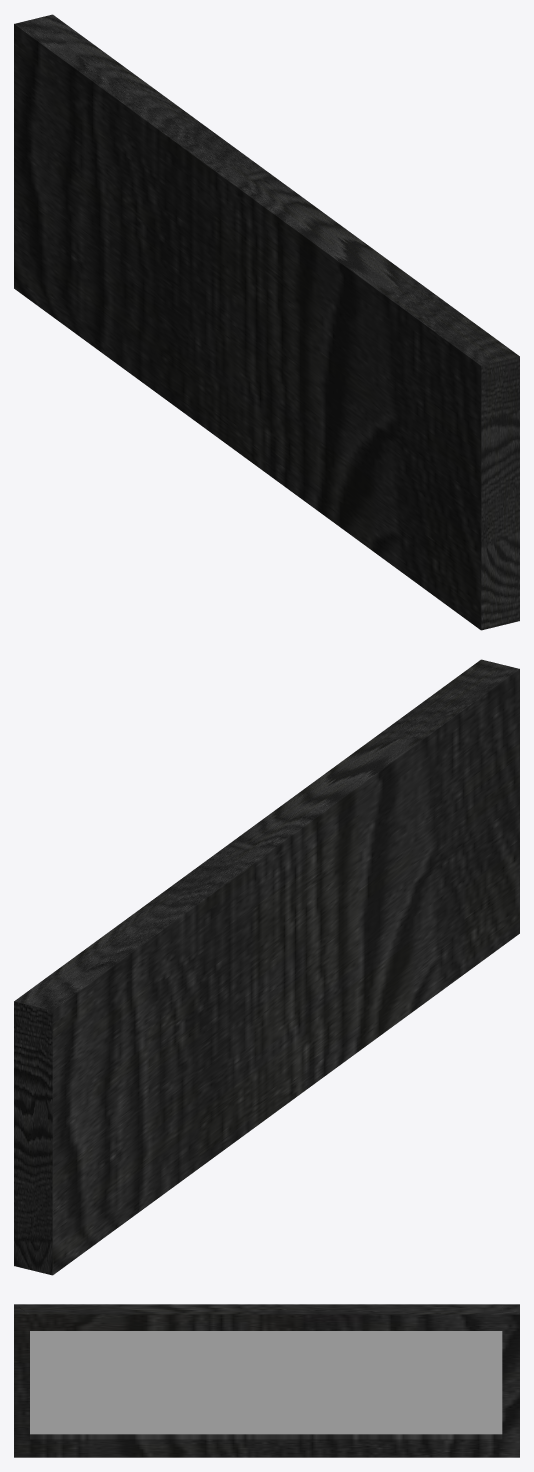
File: BrosRoom_Mirror.fbx
3 views of the same model, one above another, from view 1: azimuth 30°, elevation 25°; view 2: azimuth 150°, elevation 25°; view 3: azimuth 270°, elevation 25° (orthographic). The views are drawn at different scales.
Visible parts, largest first — view 1: Mirror.001; view 2: Mirror.001; view 3: Mirror.001.
Boxes of the visible parts, box(x1,y1,x2,y2) form: Mirror.001: box(14, 14, 519, 630); Mirror.001: box(14, 659, 519, 1275); Mirror.001: box(14, 1304, 519, 1457).
Size of the model in its own units: 7.67 by 49.99 by 160.
Materials: 2 (1 with a texture image).
